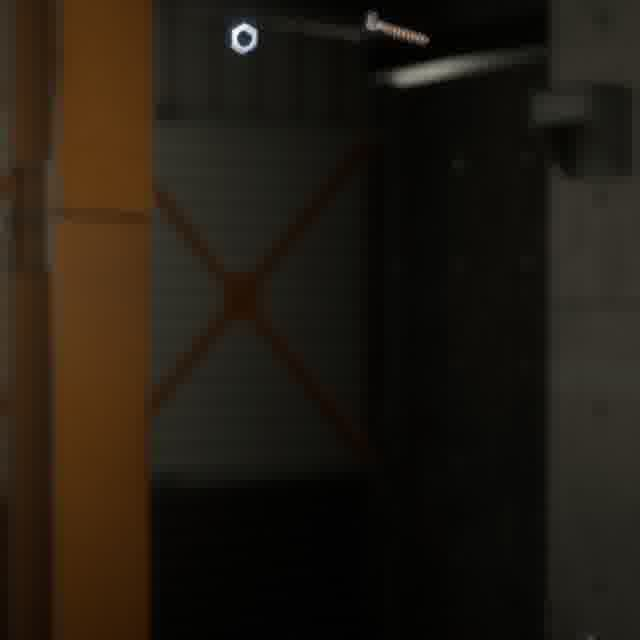bolt: (356, 6, 434, 51)
nut: (223, 17, 262, 59)
